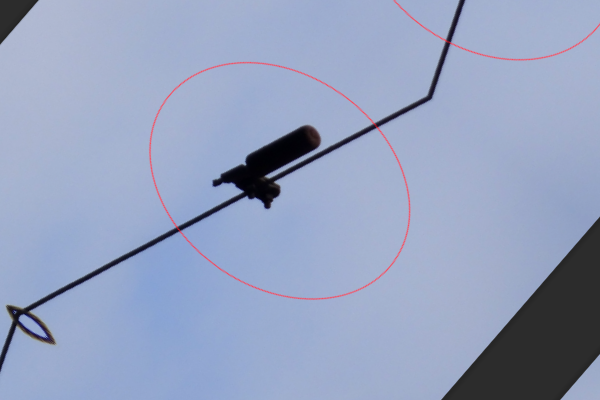damper_defect: (207, 120, 324, 211)
